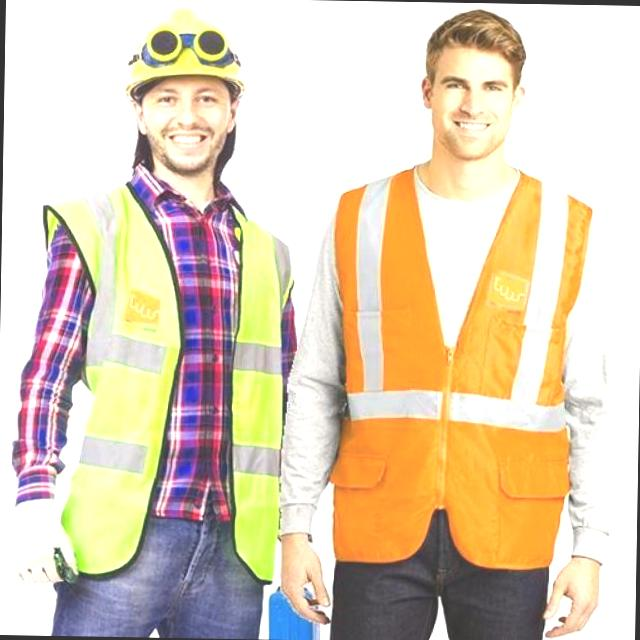vest: (328, 147, 599, 543), (62, 178, 292, 600)
